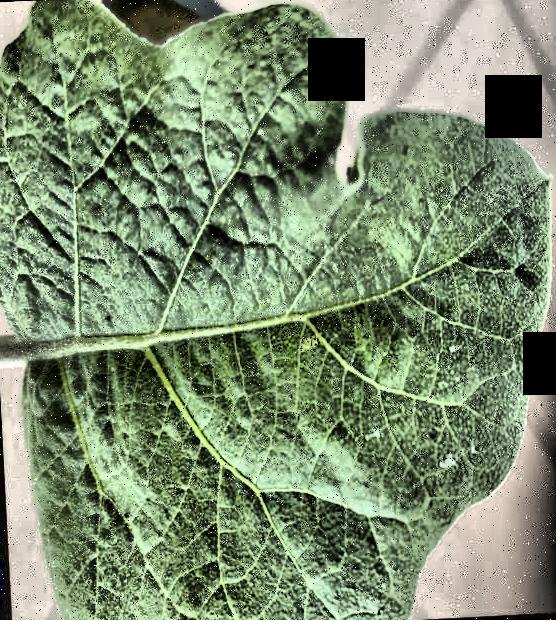HEALTHY: (0, 1, 556, 620)
